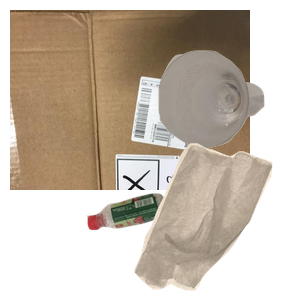cardboard: (10, 10, 250, 190)
glass: (156, 48, 300, 189)
plastic: (84, 191, 242, 300)
trash: (132, 140, 300, 300)
